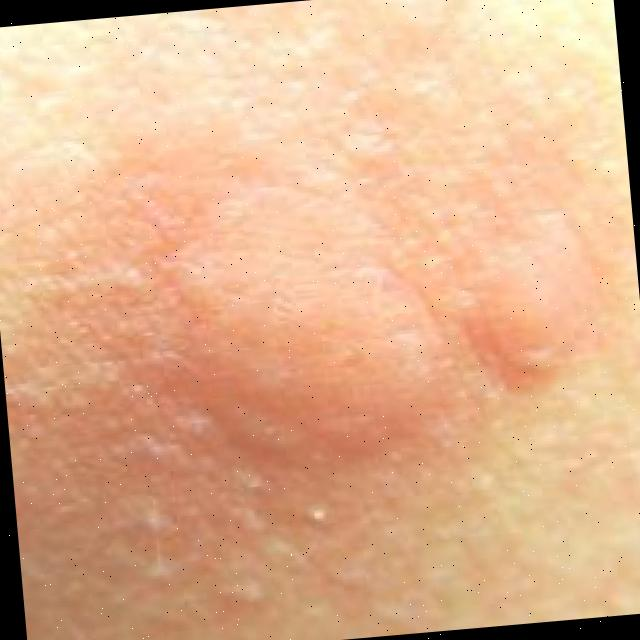sinek: (95, 80, 611, 553)
